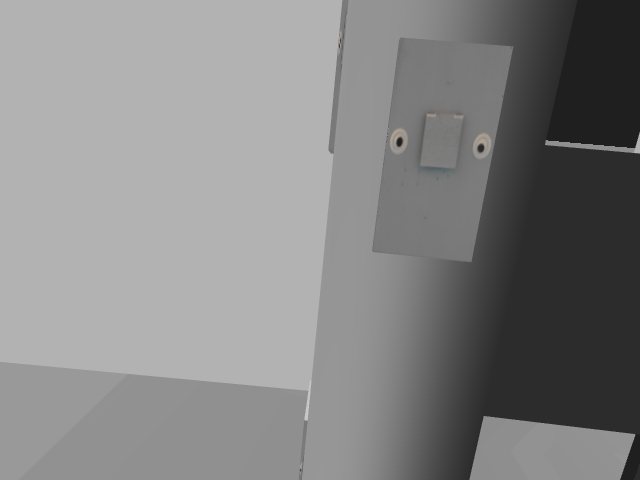facade: (389, 109, 492, 175)
